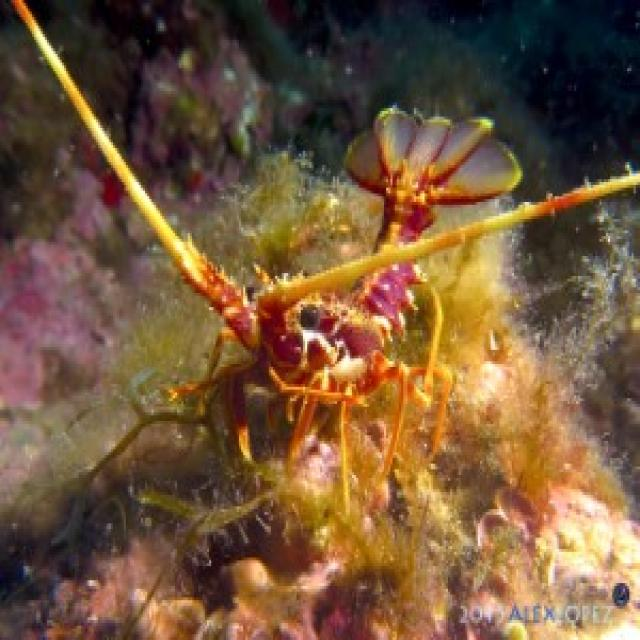lobsters: (57, 19, 623, 470)
